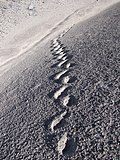human_footprint: (51, 38, 71, 106)
